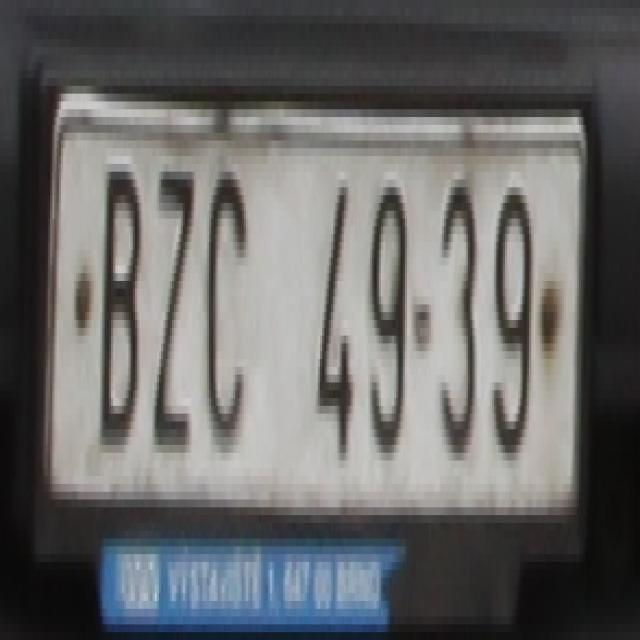3: (438, 172, 474, 445)
4: (316, 164, 352, 468)
9: (490, 188, 533, 460), (370, 188, 407, 460)
B: (94, 156, 142, 453)
C: (202, 172, 246, 437)
Z: (150, 148, 200, 453)
